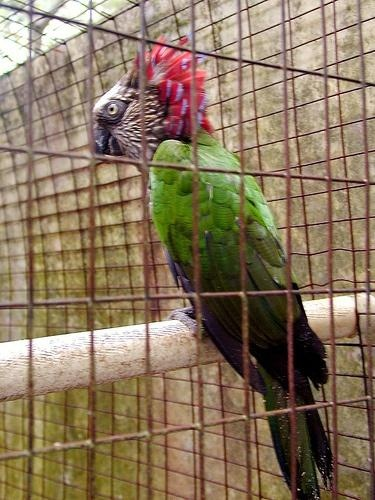bird: (89, 38, 337, 500)
